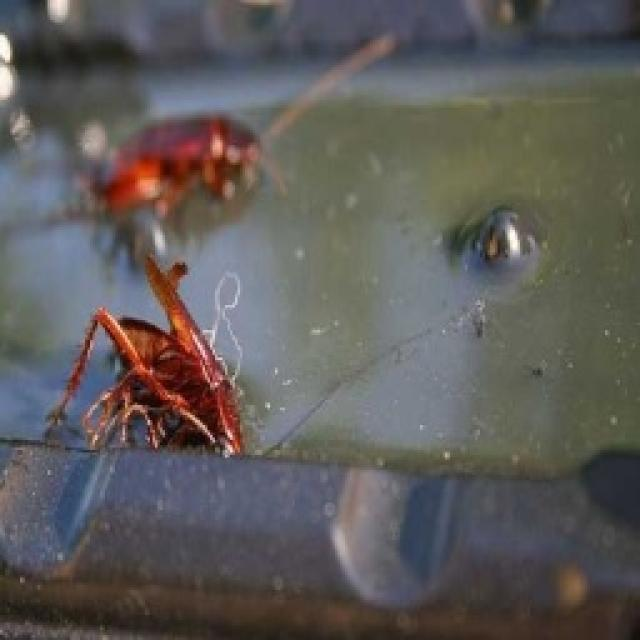cockroach: (39, 252, 253, 457), (76, 81, 294, 230)
